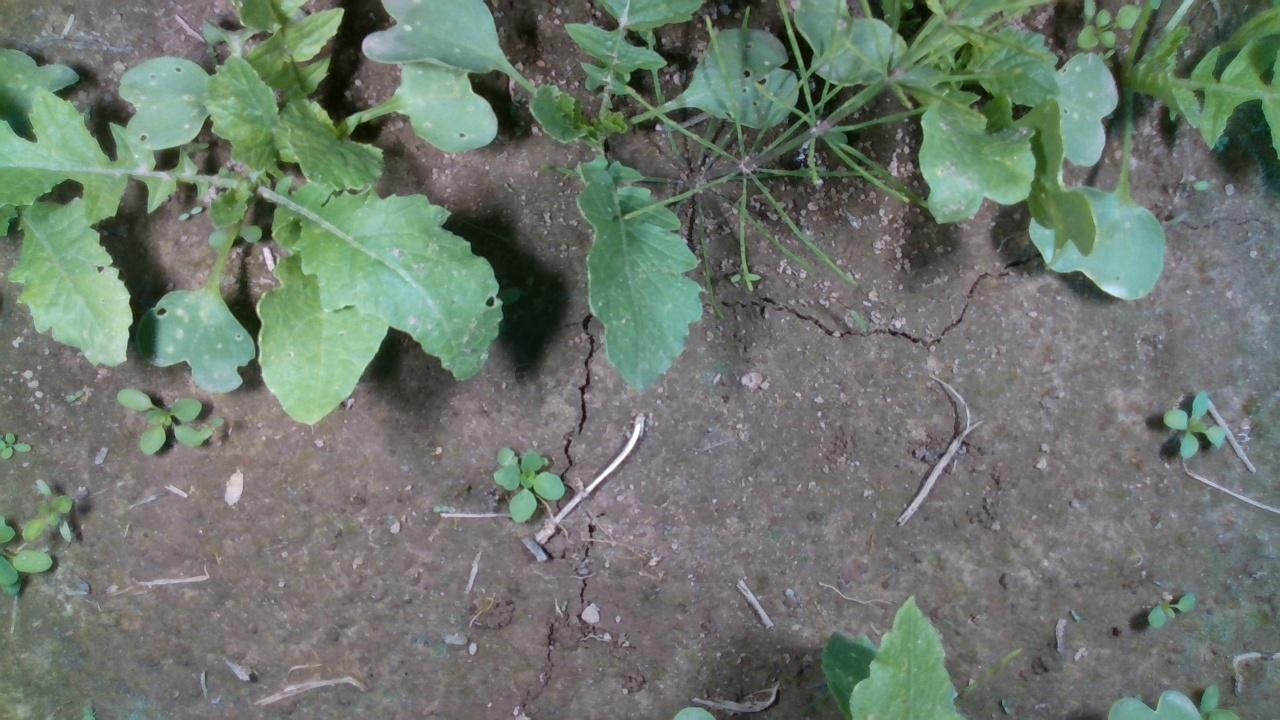weed: (1144, 590, 1197, 628)
